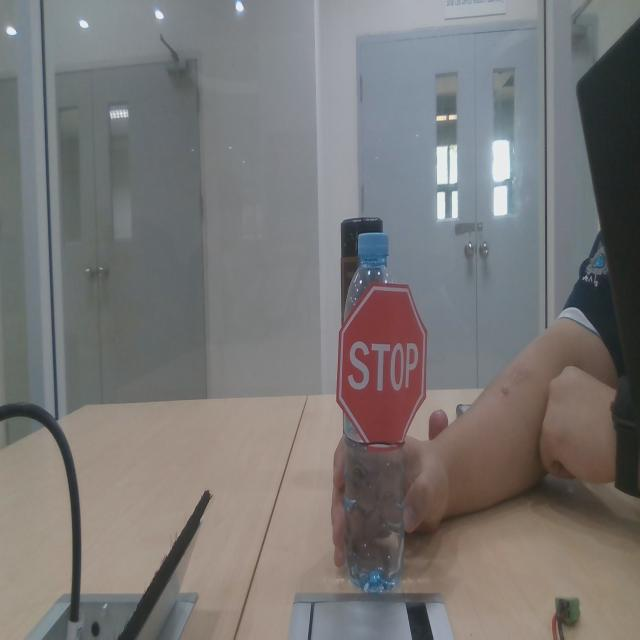Stop: (335, 278, 428, 448)
